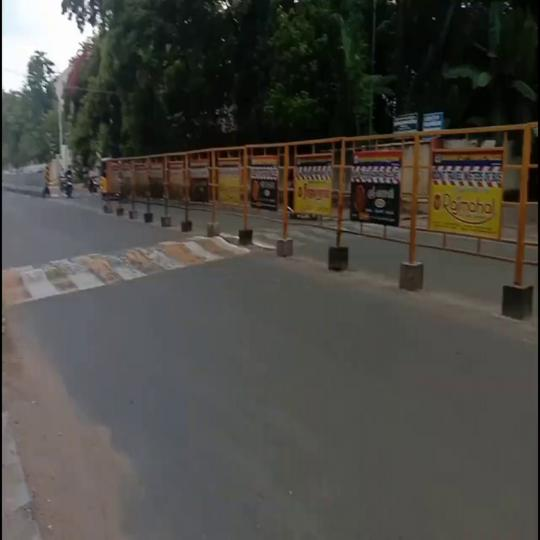Speed Bump: (0, 235, 237, 299), (293, 219, 323, 247), (253, 220, 277, 246)
